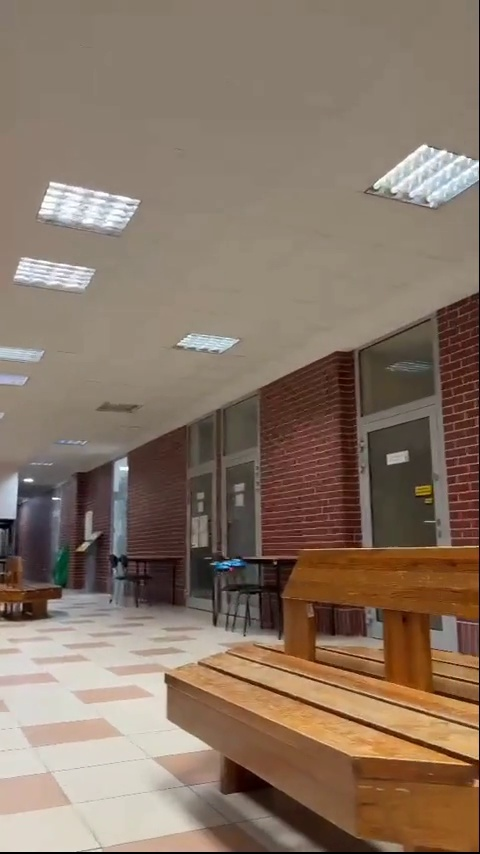drone: (211, 559, 247, 575)
